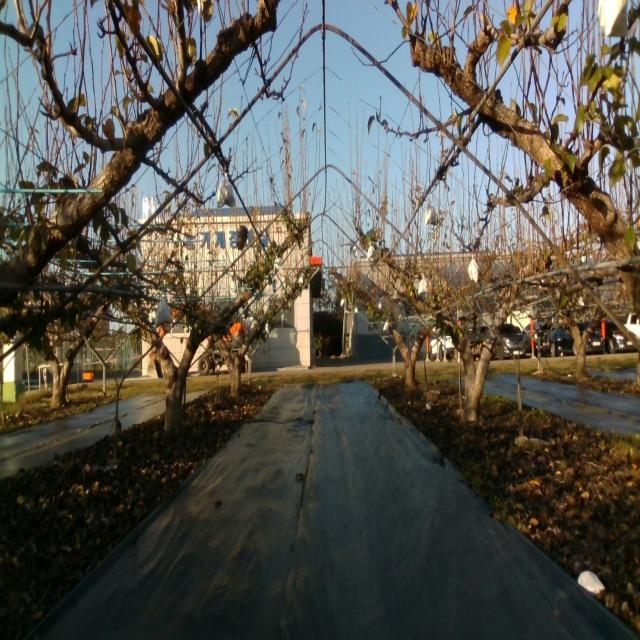pearbags: (598, 0, 630, 39), (217, 172, 237, 206), (153, 298, 173, 328), (424, 198, 438, 225), (468, 254, 478, 284)
